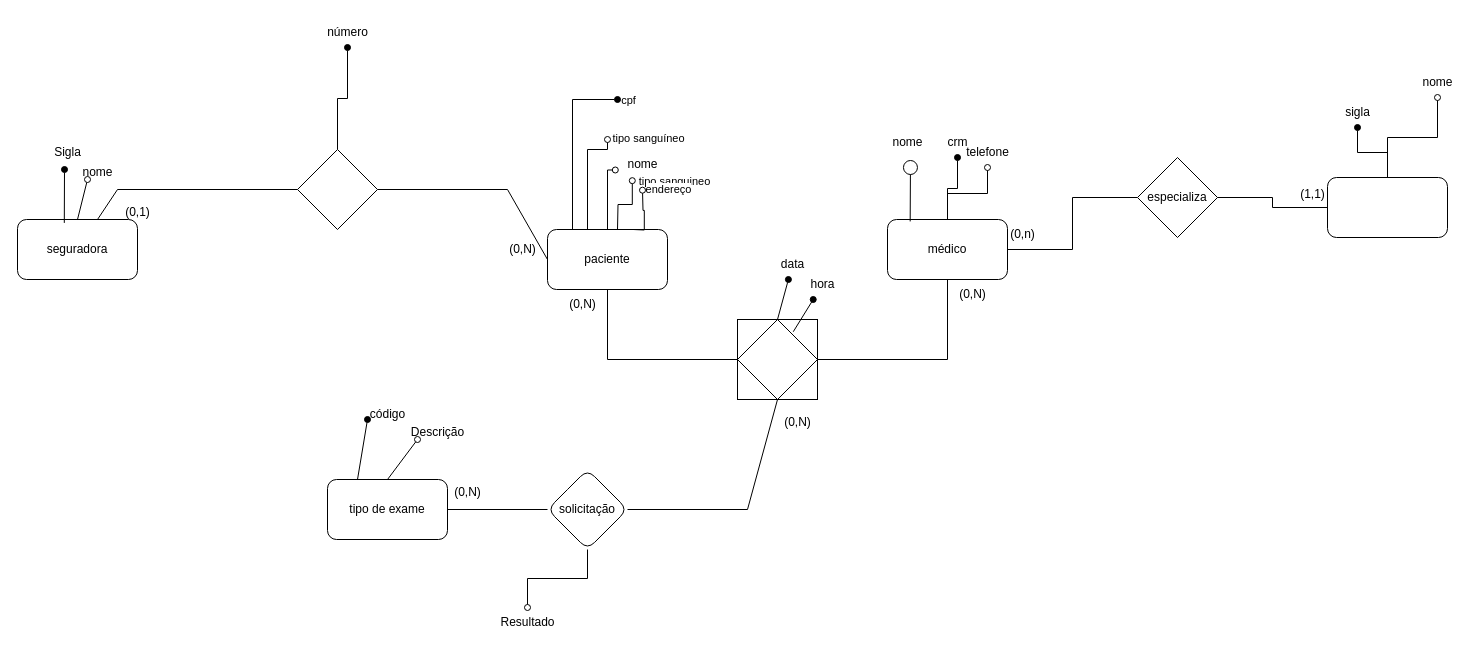
This 1480x654 diagram has some shape labels left out. The centre of each missing label's shape, as x and y in pixels:
"consulta" goes at pixel 777 359.
"especialidade" goes at pixel 1387 207.
"plano" goes at pixel 337 189.
